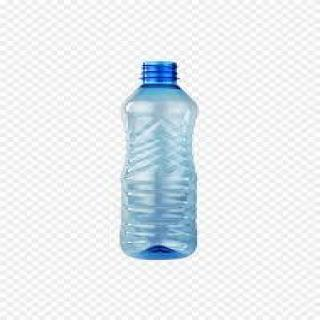Plastic-bottle: (117, 60, 203, 262)
